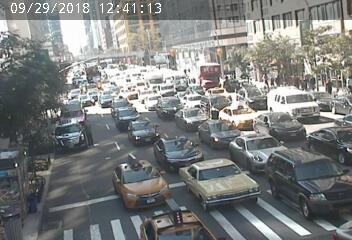car: (268, 155, 338, 210), (181, 166, 234, 198), (239, 132, 284, 167), (149, 209, 199, 240), (119, 160, 161, 195), (275, 83, 318, 115), (158, 139, 195, 168), (263, 109, 301, 137), (226, 95, 255, 126), (172, 104, 206, 130), (316, 126, 352, 150), (61, 123, 98, 146), (131, 121, 157, 142), (206, 115, 227, 136), (159, 99, 182, 115), (66, 108, 90, 123), (204, 86, 229, 100), (115, 106, 138, 120), (180, 95, 204, 107), (146, 74, 167, 84), (113, 98, 130, 109), (185, 93, 202, 104), (82, 92, 93, 107), (143, 94, 157, 105), (159, 84, 176, 91), (101, 94, 111, 102)
